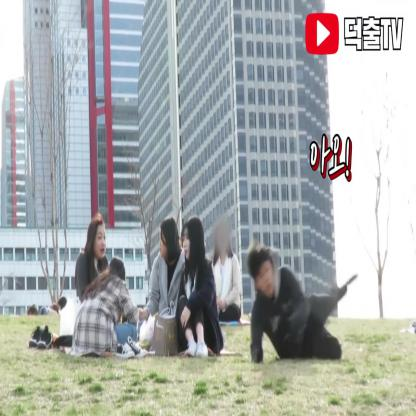Fall_Down: (245, 243, 351, 372)
